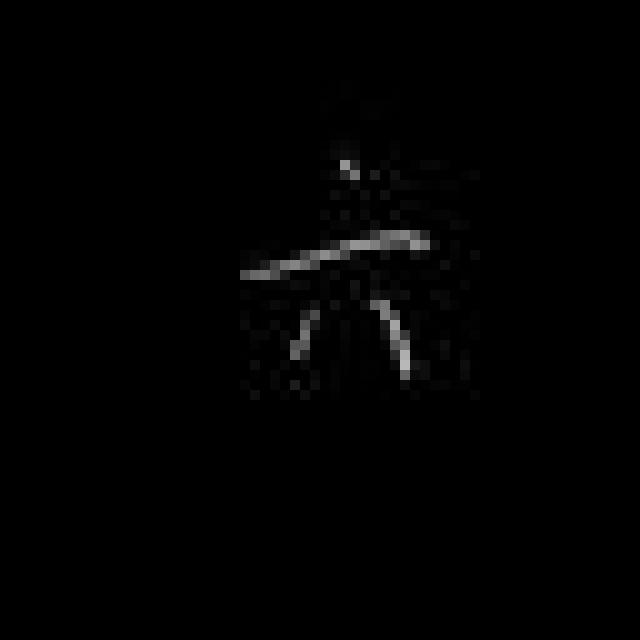6 -six-: (228, 145, 434, 394)
